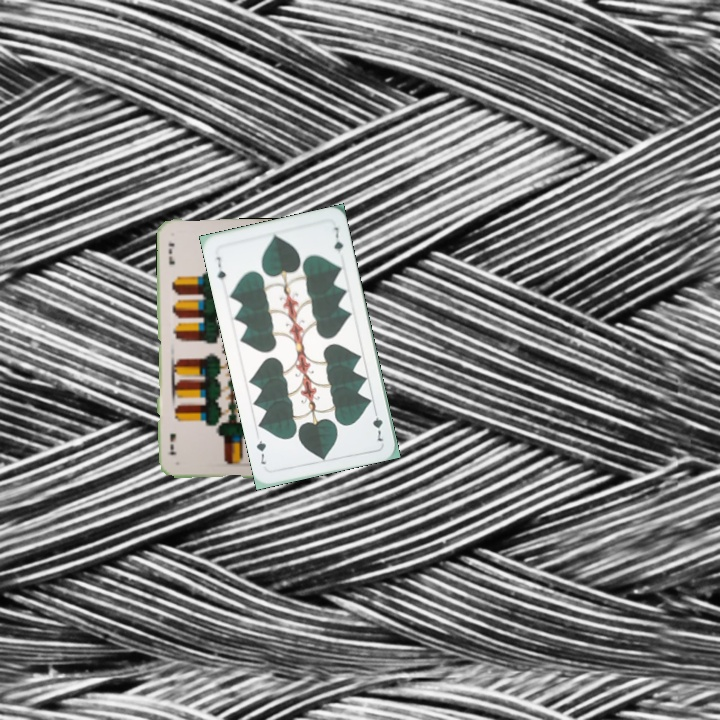E7: (164, 238, 177, 267)
G7: (369, 405, 386, 444), (212, 252, 228, 288)
